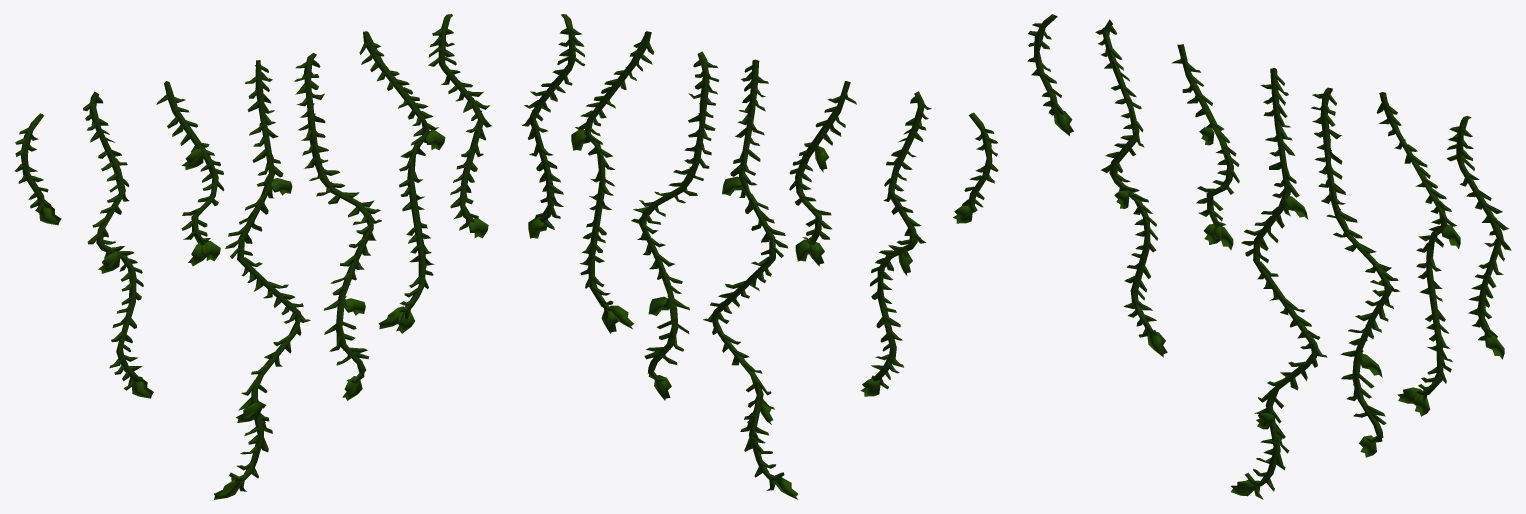
Rendered from PlantaB.fbx.
3 renders of one model, left to right at view 1: azimuth 30°, elevation 25°; view 2: azimuth 150°, elevation 25°; view 3: azimuth 330°, elevation 25°, orthographic.
Visible parts, largest first — view 1: FolhasCipo1, Cipo1, Folhas1; view 2: FolhasCipo1, Cipo1, Folhas1; view 3: FolhasCipo1, Cipo1, Folhas1.
Part boxes in pixels (x1,y1,x2,y2): FolhasCipo1: (14,28,491,491); Cipo1: (20,14,484,482); Folhas1: (39,130,488,499); FolhasCipo1: (522,28,998,490); Cipo1: (529,14,992,480); Folhas1: (528,129,972,499); FolhasCipo1: (1027,23,1511,499); Cipo1: (1034,14,1503,486); Folhas1: (1054,110,1504,496).
Bounding box in the file's own units: 206 × 180 × 3.89.
